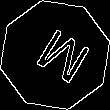M_SW: (22, 21, 88, 89)
